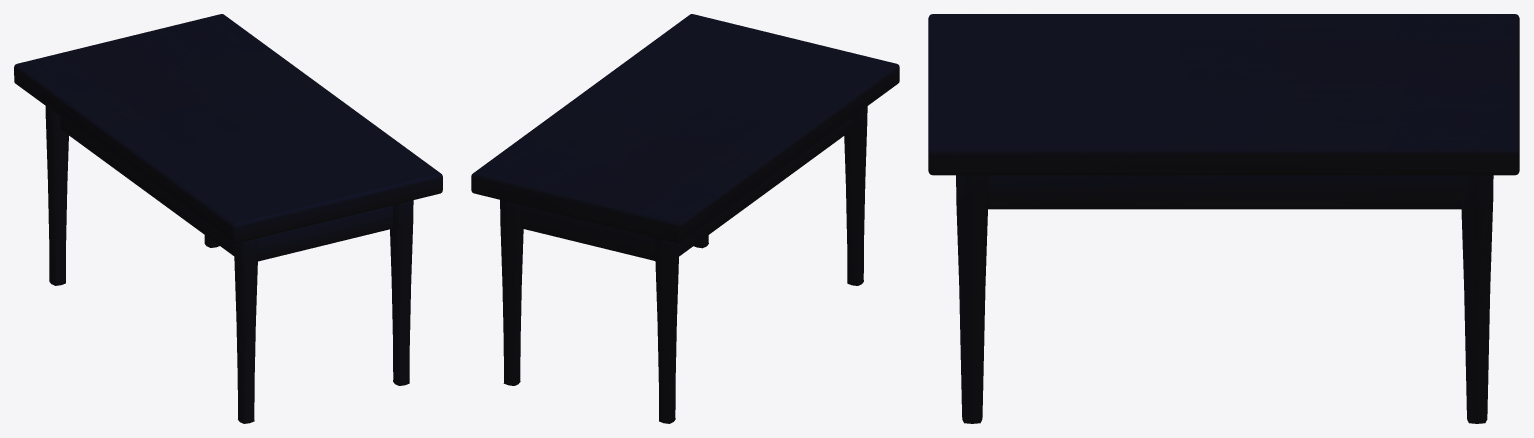
The model's file is desk.glb.
3 renders of one model, left to right at view 1: azimuth 30°, elevation 25°; view 2: azimuth 150°, elevation 25°; view 3: azimuth 270°, elevation 25°, orthographic. The views are drawn at different scales.
Visible parts, largest first — view 1: room1_desk; view 2: room1_desk; view 3: room1_desk.
Boxes of the visible parts, box(x1,y1,x2,y2) form: room1_desk: box(14, 14, 442, 423); room1_desk: box(471, 14, 899, 423); room1_desk: box(928, 14, 1519, 423).
Bounding box in the file's own units: 2.12 × 2.06 × 3.85.
Materials: 1 (1 with a texture image).
